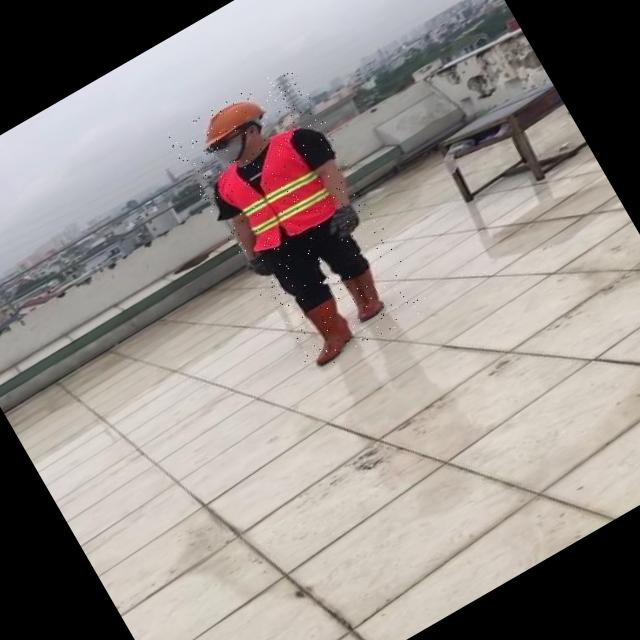hard_hat: (190, 88, 272, 152)
safety_vest: (208, 127, 341, 260)
vehicle: (166, 64, 432, 378)
work_boots: (290, 293, 362, 367), (339, 264, 394, 322)
